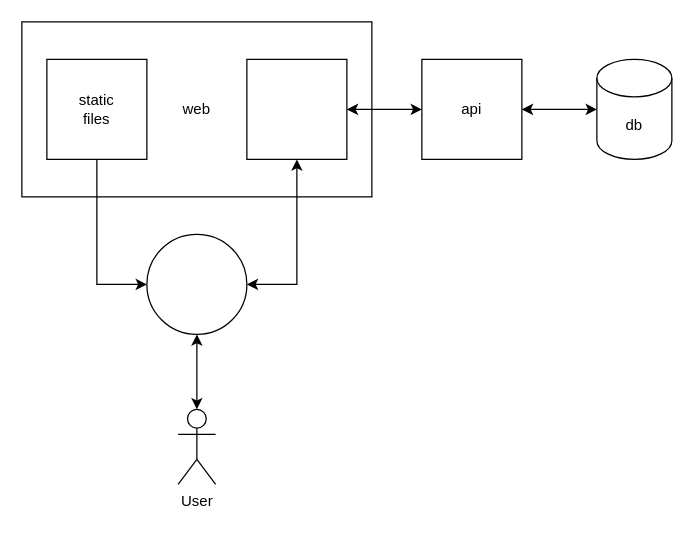
Some shapes in this 694 by 533 pixel diagram are drawn without their labels. The box of each missing label's shape, as (x1, y1, x2, y2) in pixels:
browser: (146, 233, 247, 334)
reverse proxy: (246, 58, 347, 159)
